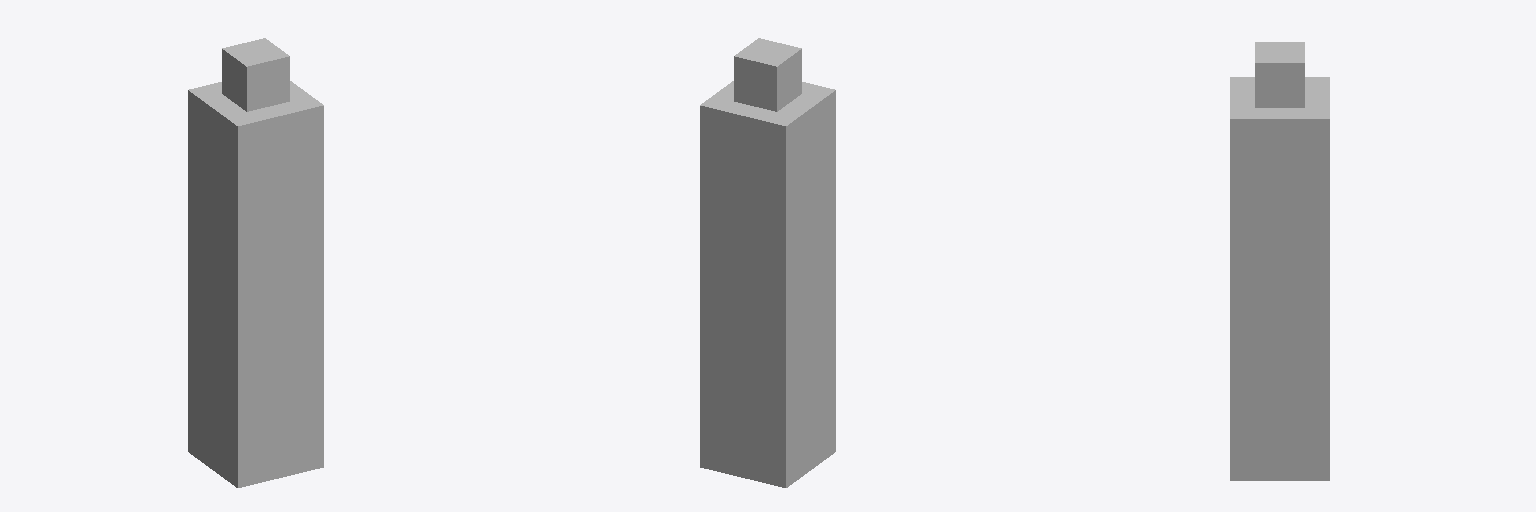
The model's file is świeczka 1.obj.
3 renders of one model, left to right at view 1: azimuth 30°, elevation 25°; view 2: azimuth 150°, elevation 25°; view 3: azimuth 270°, elevation 25°, orthographic.
Visible parts, largest first — view 1: object 1; view 2: object 1; view 3: object 1.
Boxes of the visible parts, x1=… form: object 1: x1=188, y1=38, x2=323, y2=487; object 1: x1=700, y1=38, x2=835, y2=487; object 1: x1=1230, y1=42, x2=1329, y2=480.
Size of the model in its own units: 0.4 by 1.8 by 0.4.